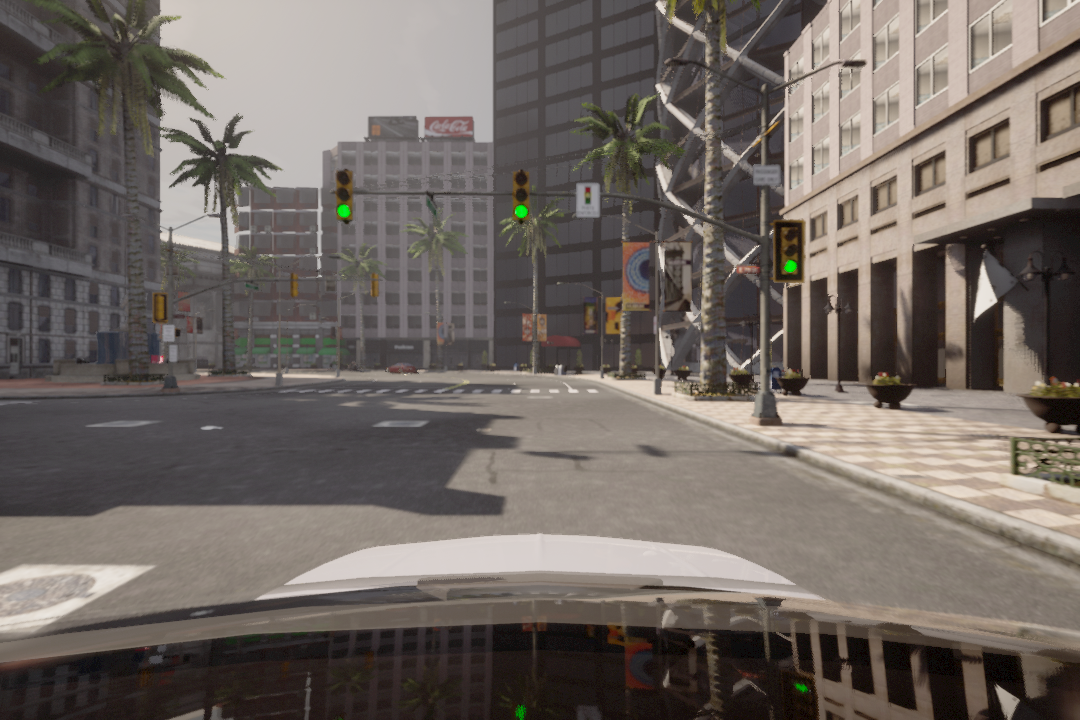TrafficLight: (775, 223, 806, 284), (334, 168, 358, 228), (511, 171, 533, 224)
